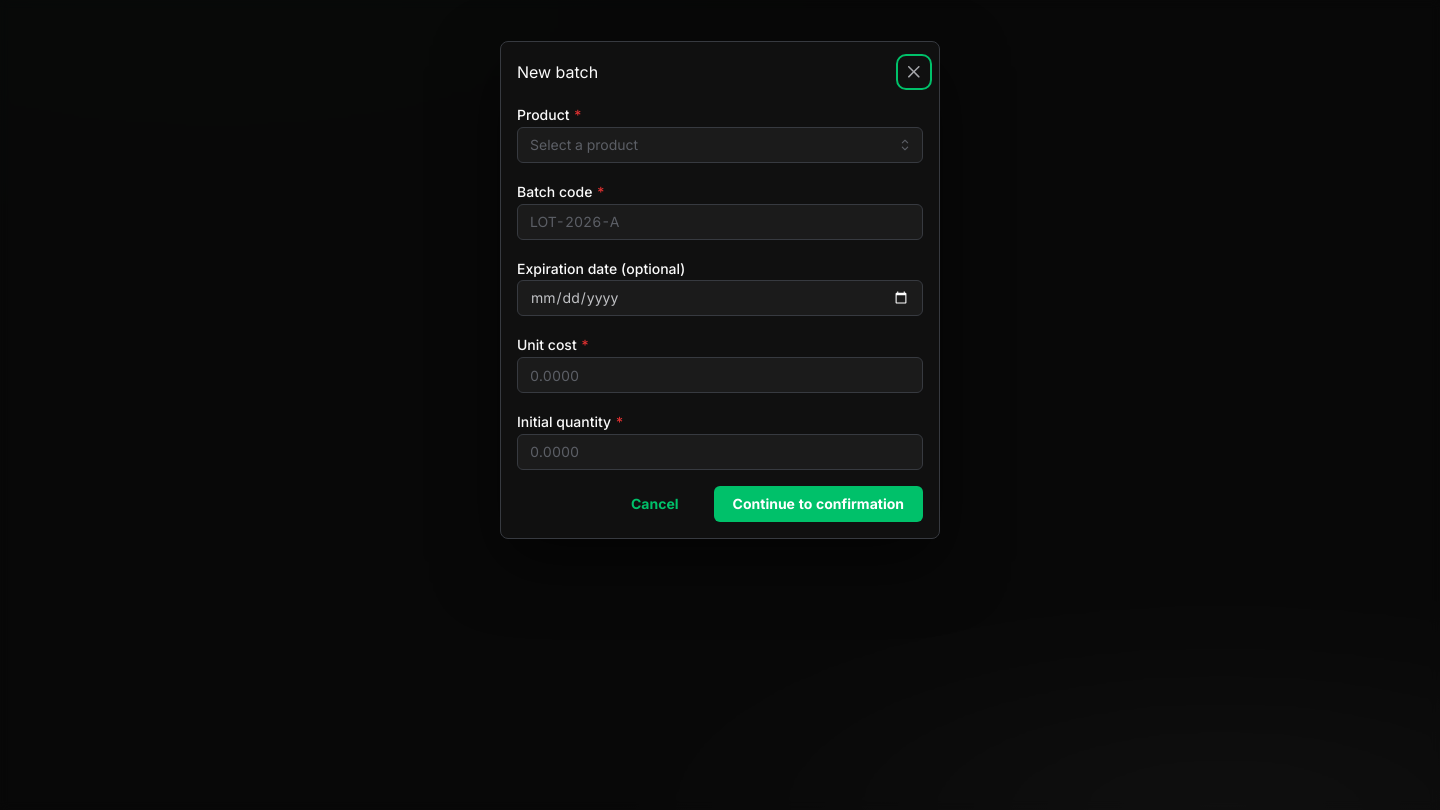
ManualBatchModal › validation: missing required fields block submit and show inline errors
Expected: the dialog is shown, x1=500 y1=40 x2=940 y2=538
Click Continue without filling anything
Click the button "Continue to confirmation": click(818, 504) x1=714 y1=486 x2=923 y2=522
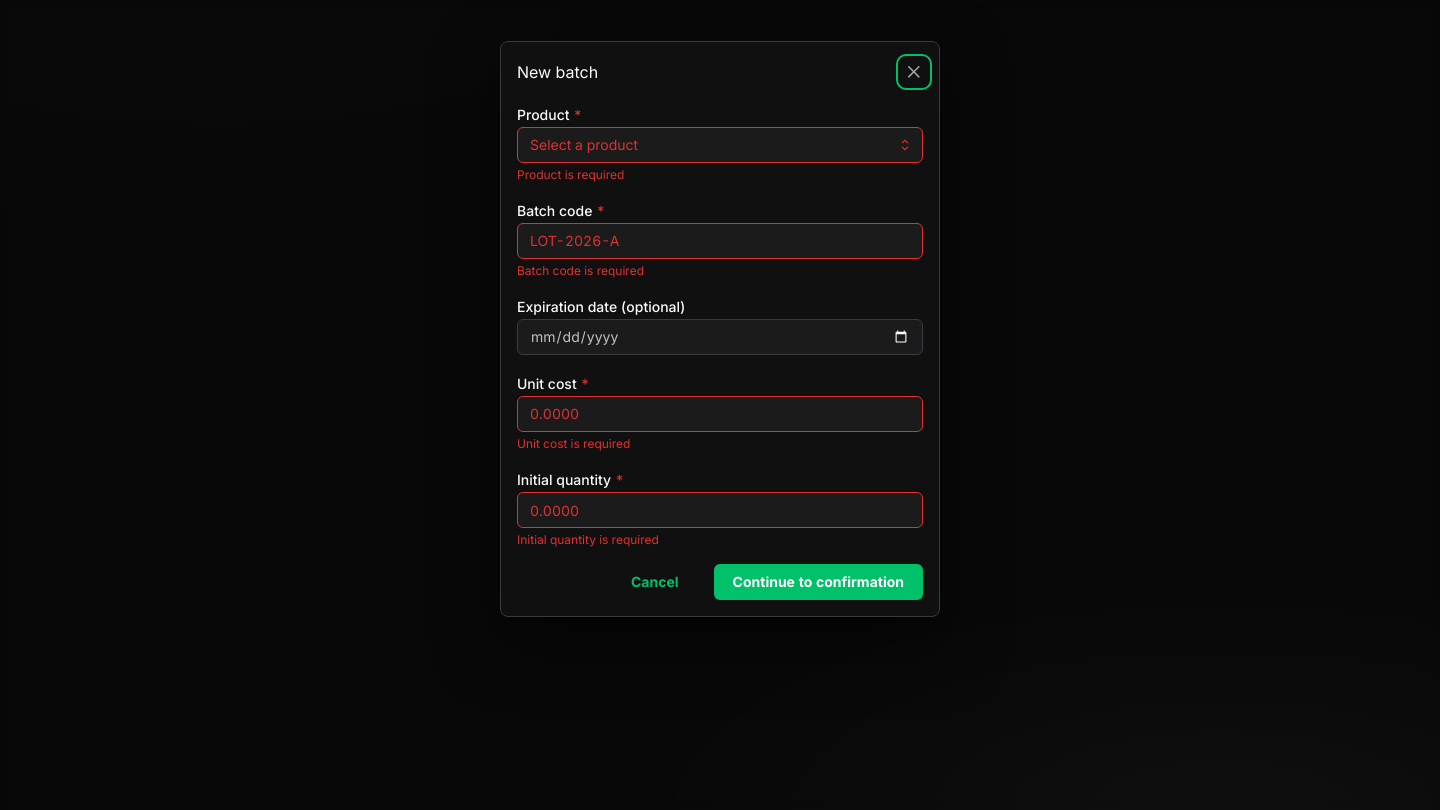
Expected: the text "Product is required" is shown, x1=517 y1=166 x2=624 y2=181
Expected: the text "Batch code is required" is shown, x1=517 y1=262 x2=644 y2=278
